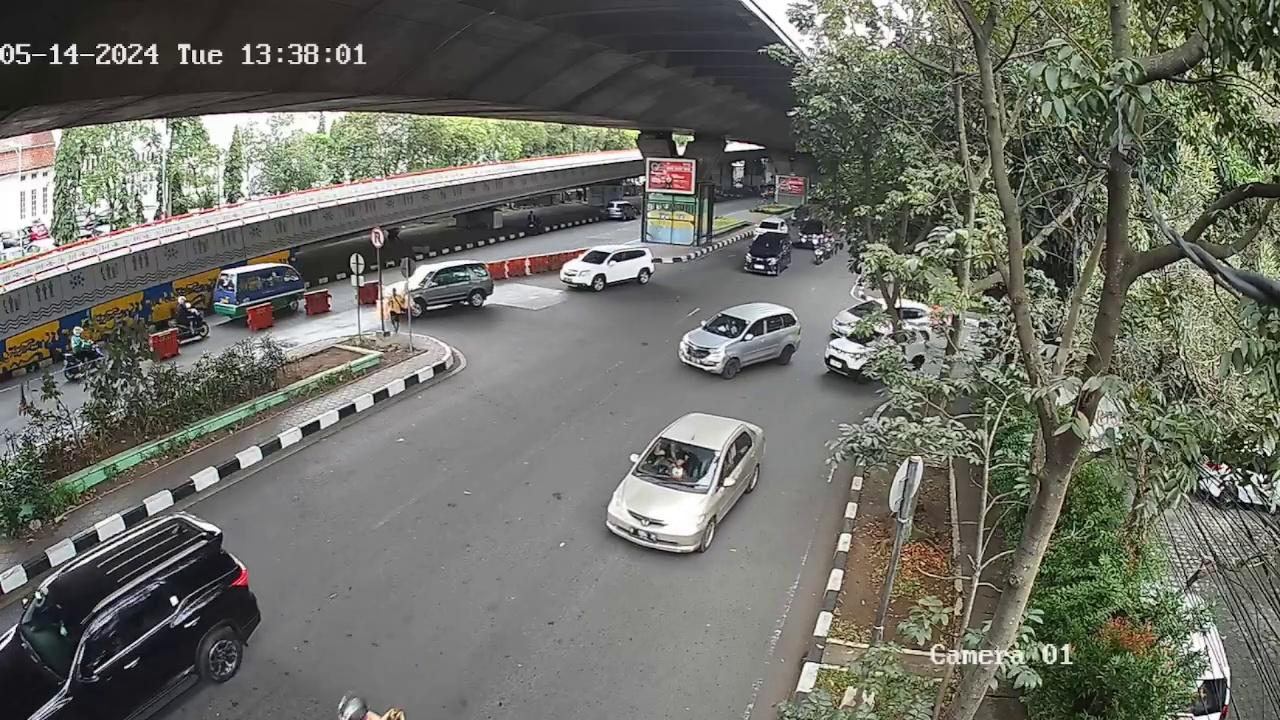pakai: (658, 445, 687, 474)
windshield: (635, 438, 720, 489), (703, 309, 751, 340)
